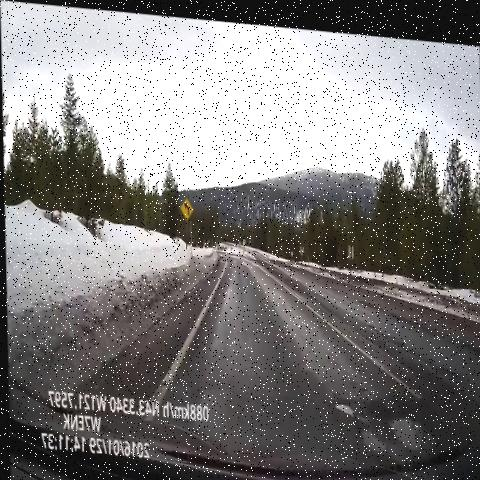pothole: (331, 390, 394, 459), (375, 394, 444, 454)
